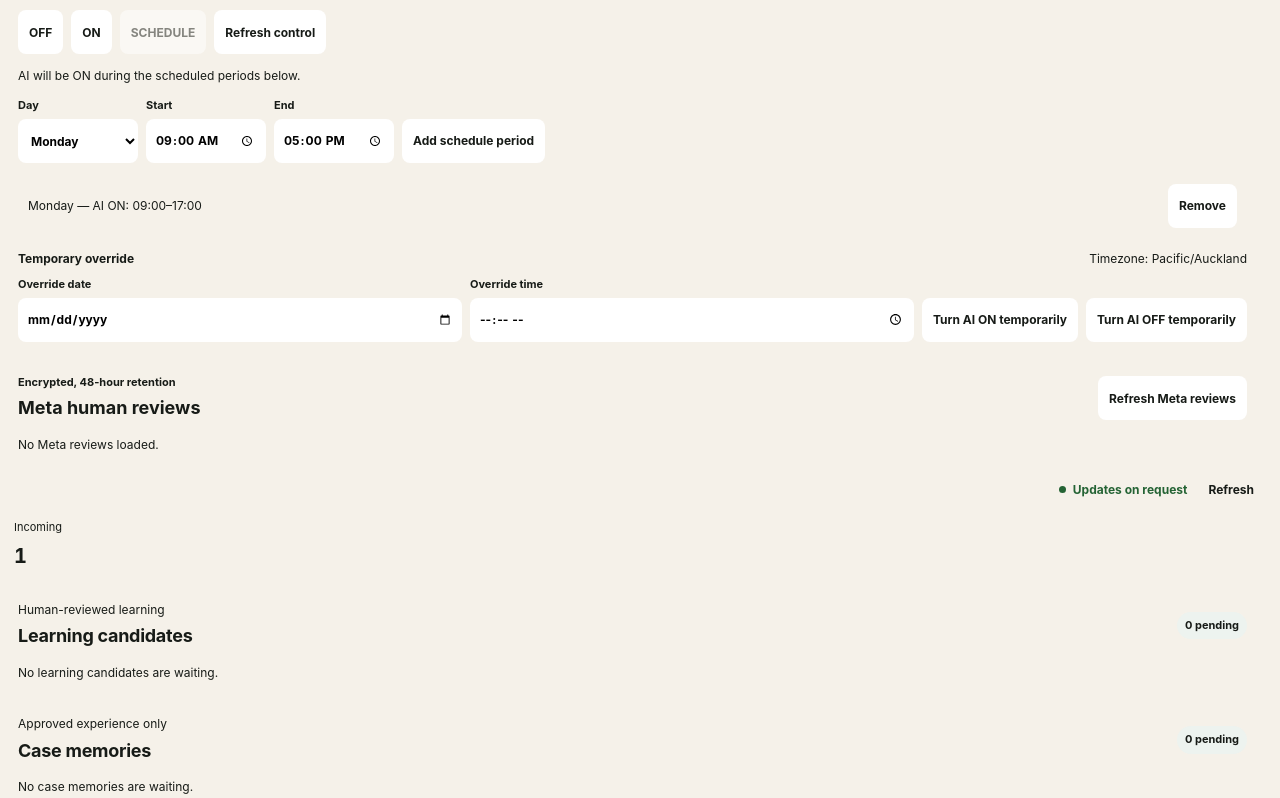
Test case: ReplyAssistantLiveDashboard › loads review metadata and decrypts detail only after an explicit operator action
The image size is (1280, 798).
(page scrolled)
Expected: the text "Protected draft" is not shown
What coordinates should you click on to do the following:
click the button "Refresh Meta reviews"
I would click on:
 (1173, 398)
Its box is [1098,376,1247,420].
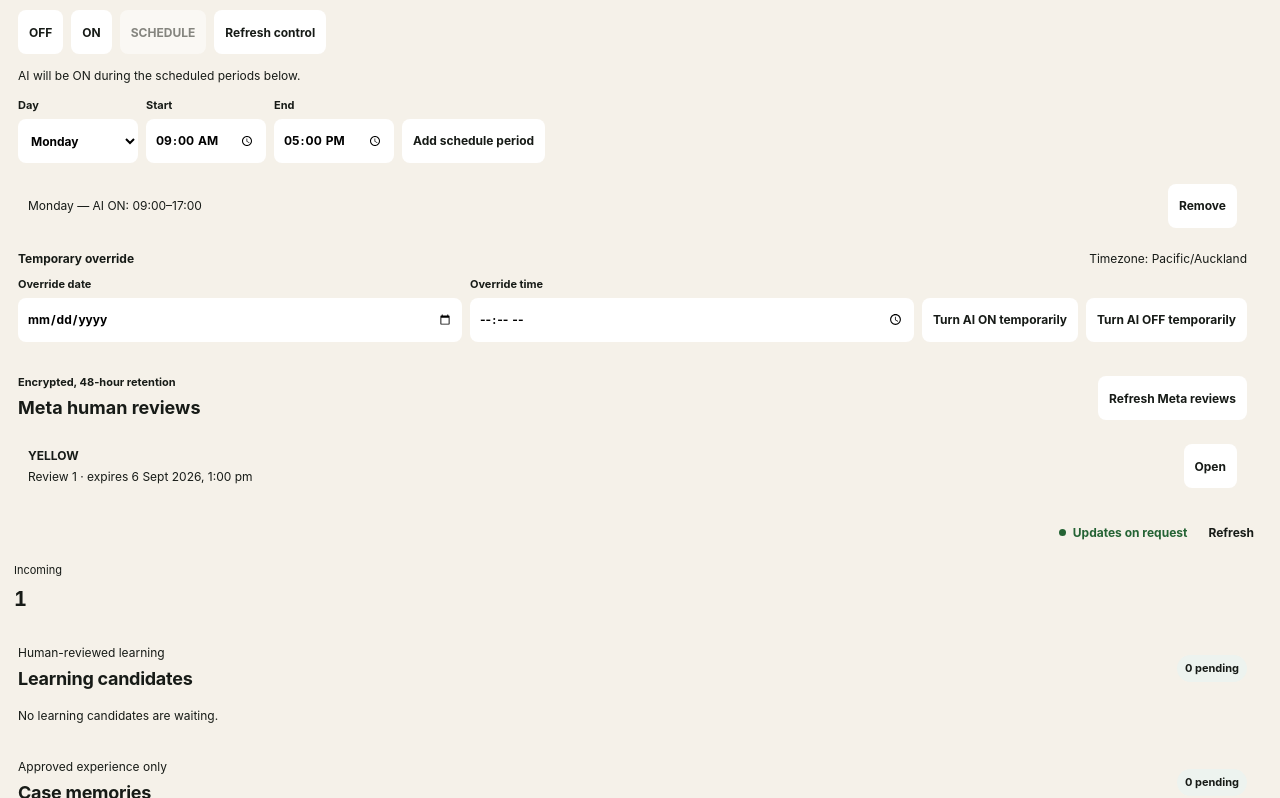
What coordinates should you click on to do the following:
click the button with aria-label "Open protected review"
I would click on:
 (1210, 466)
Its box is [1184,444,1237,488].
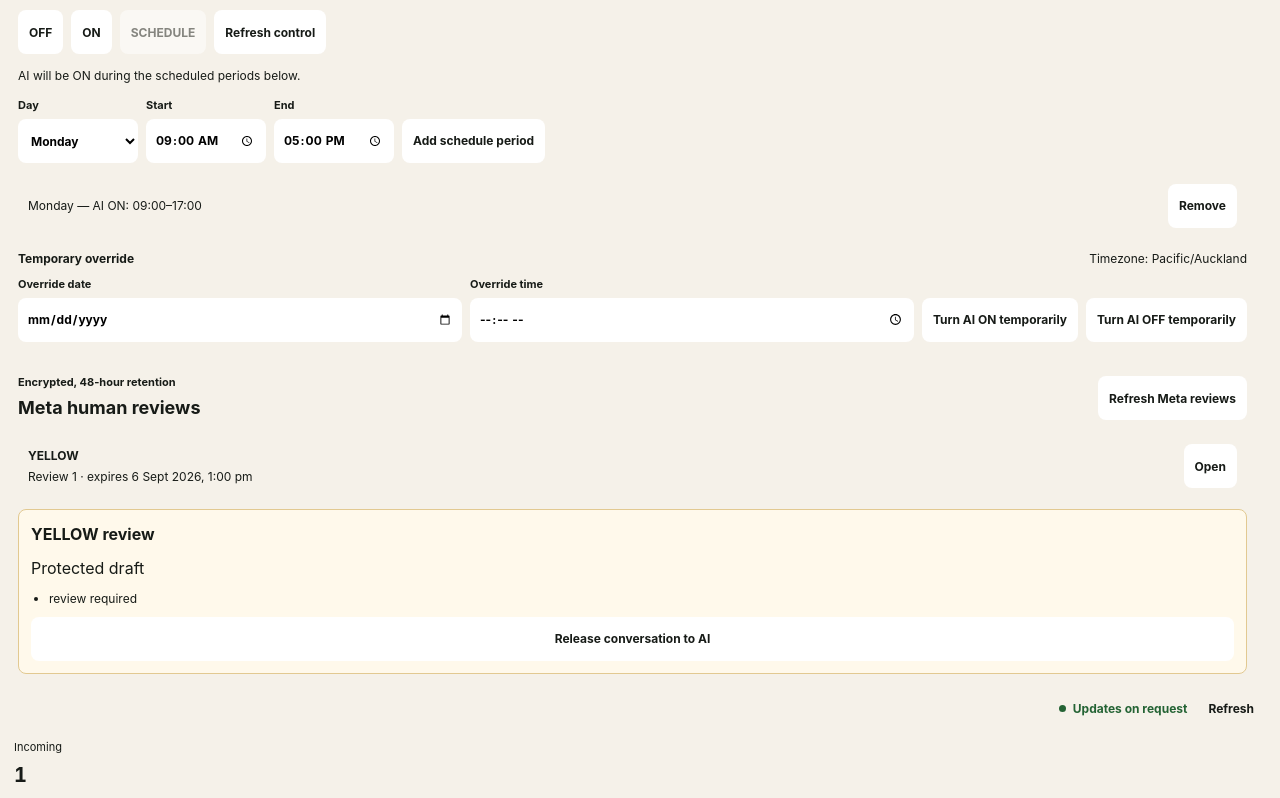
Now the text "Protected draft" is shown, box [31,558,144,578]
What coordinates should you click on to do the following:
click the button "Release conversation to AI"
I would click on:
 (632, 638)
Its box is [31,616,1234,660].
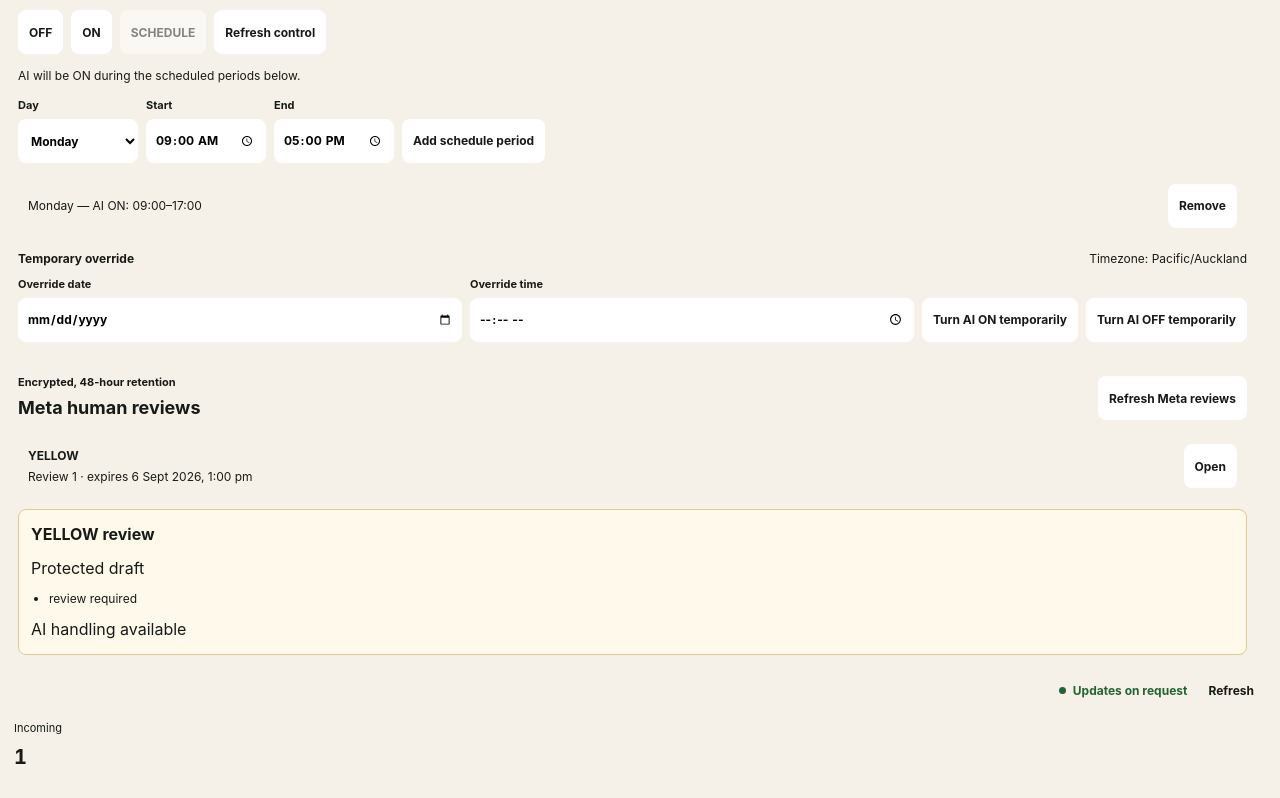
Now the text "AI handling available" is shown, box [31,618,186,638]
